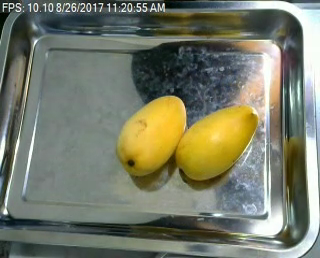Mango: (177, 106, 257, 179), (118, 96, 186, 173)
